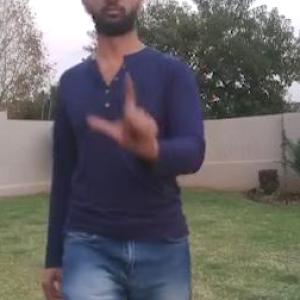land_hand: (83, 70, 168, 158)
